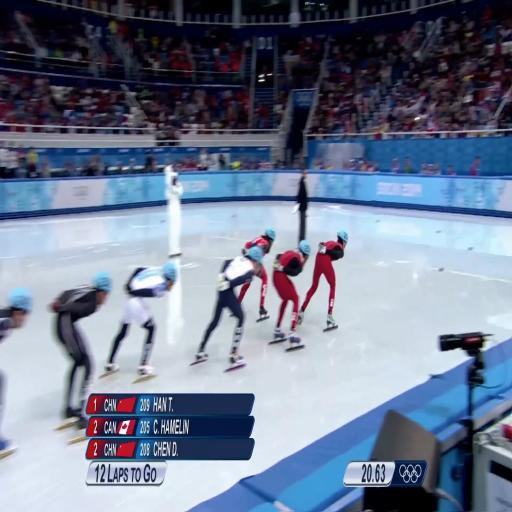Skater: (50, 272, 112, 429), (192, 247, 263, 371), (104, 262, 177, 377), (298, 231, 347, 331), (271, 241, 310, 351), (0, 288, 32, 342), (257, 265, 269, 321)
